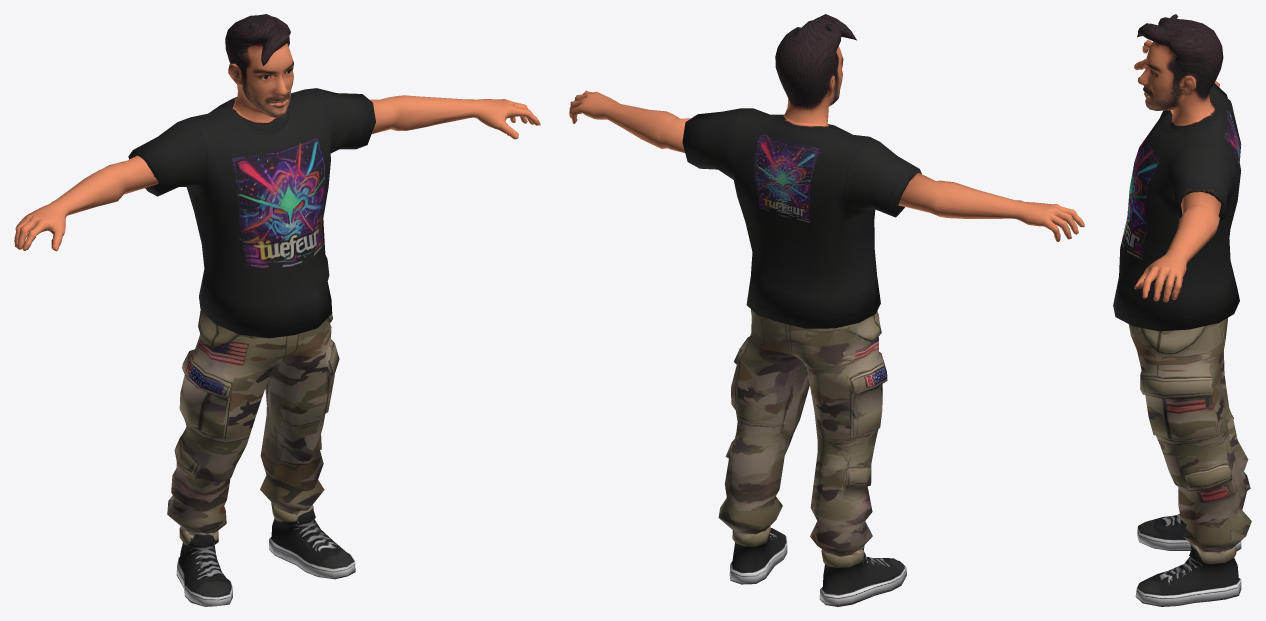
File: Etienne.fbx
3 views of the same model, side by side, from view 1: azimuth 30°, elevation 25°; view 2: azimuth 150°, elevation 25°; view 3: azimuth 270°, elevation 25° (orthographic). The views are drawn at different scales.
Visible parts, largest first — view 1: tripo_node_e5c1efc0-1960-44bf-b780-7164d71ab828; view 2: tripo_node_e5c1efc0-1960-44bf-b780-7164d71ab828; view 3: tripo_node_e5c1efc0-1960-44bf-b780-7164d71ab828.
Part boxes in pixels (box(x1,y1,x2,y2)): tripo_node_e5c1efc0-1960-44bf-b780-7164d71ab828: box(14, 14, 540, 606); tripo_node_e5c1efc0-1960-44bf-b780-7164d71ab828: box(569, 14, 1084, 606); tripo_node_e5c1efc0-1960-44bf-b780-7164d71ab828: box(1113, 14, 1251, 606).
Bounding box in the file's own units: 0.9629 × 0.998 × 0.2285.
Materials: 1 (1 with a texture image).
